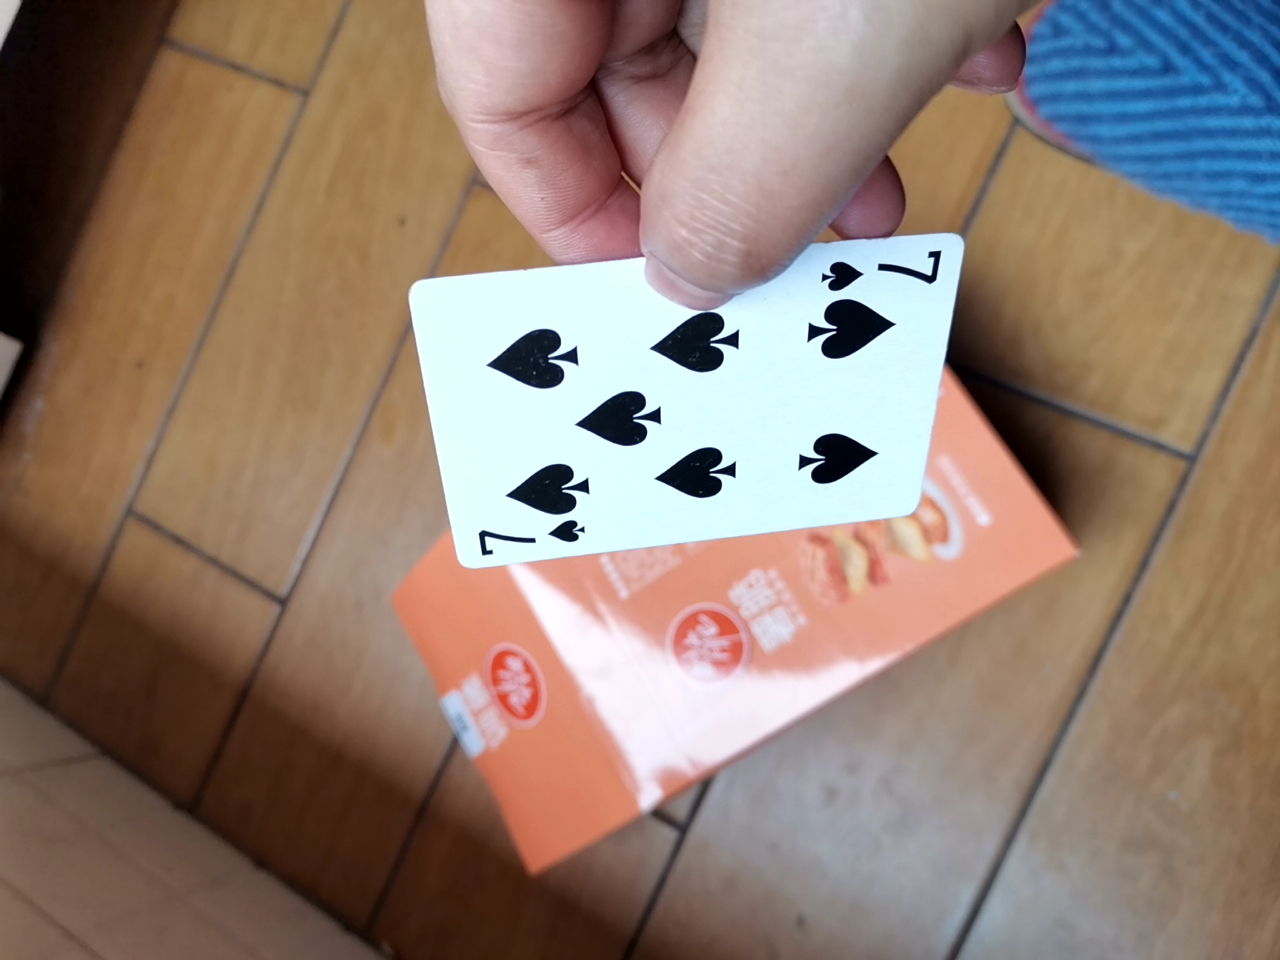ht 7: (394, 248, 961, 544)
